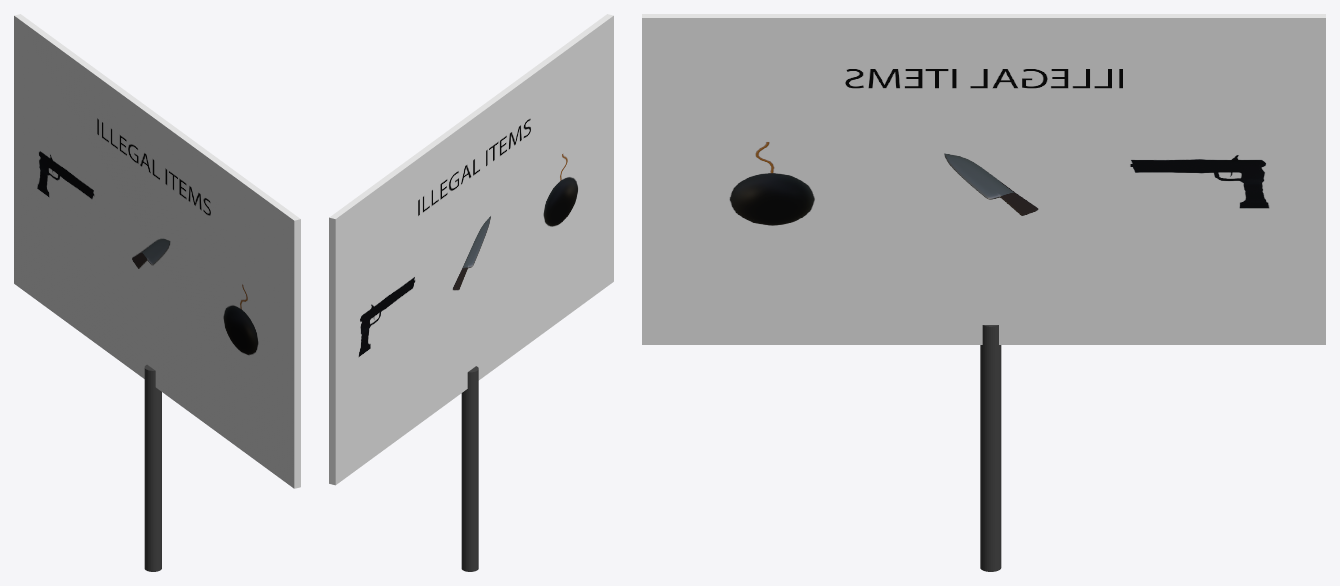
Rendered from sign.obj.
3 views of the same model, side by side, from view 1: azimuth 30°, elevation 25°; view 2: azimuth 150°, elevation 25°; view 3: azimuth 270°, elevation 25° (orthographic). The views are drawn at different scales.
Visible parts, largest first — view 1: Table.001; view 2: Table.001; view 3: Table.001.
Part boxes in pixels (x1,y1,x2,y2): Table.001: (14,14,300,571); Table.001: (329,14,613,571); Table.001: (642,14,1325,571).
Size of the model in its own units: 0.2369 by 6.8 by 7.63.
